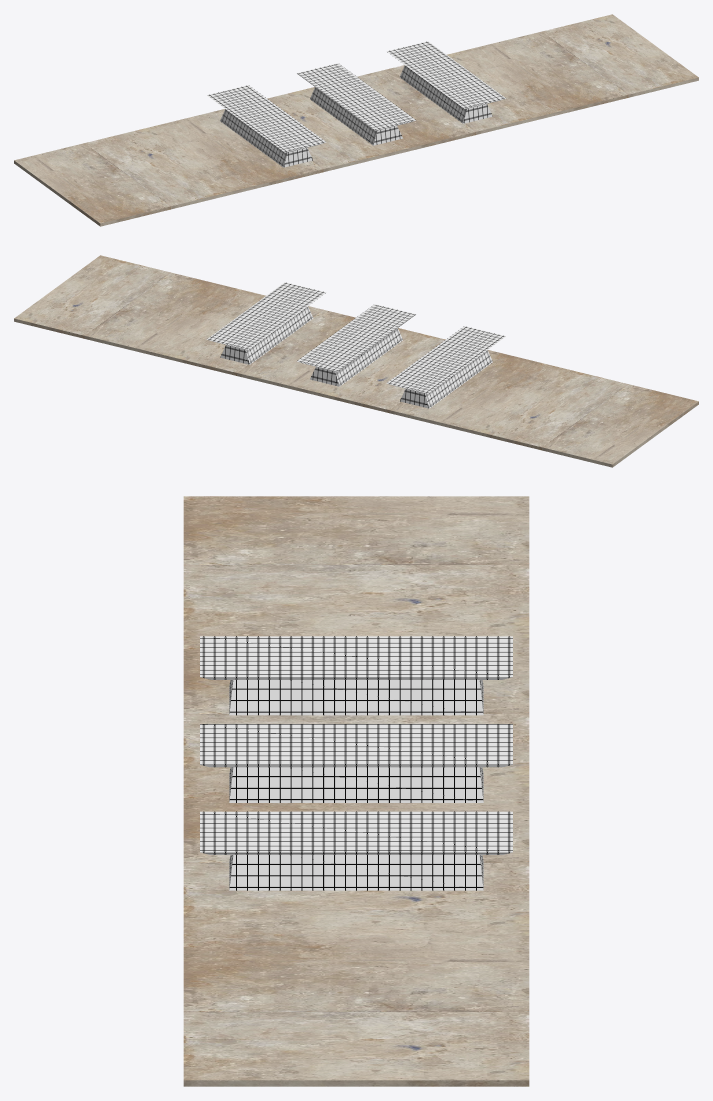
File: exhbt2-opt.glb
3 renders of one model, top to bottom at view 1: azimuth 30°, elevation 25°; view 2: azimuth 150°, elevation 25°; view 3: azimuth 270°, elevation 25°, orthographic. The views are drawn at different scales.
Parts seen in each view (by area): view 1: Mesh_8.006, Merged Objects 1; view 2: Mesh_8.006, Merged Objects 1; view 3: Mesh_8.006, Merged Objects 1.
Part boxes in pixels (<box>): Mesh_8.006: <box>14,14,698,226</box>; Merged Objects 1: <box>207,41,505,167</box>; Mesh_8.006: <box>14,255,698,467</box>; Merged Objects 1: <box>207,282,505,408</box>; Mesh_8.006: <box>183,496,529,1086</box>; Merged Objects 1: <box>200,636,512,890</box>.
Bounding box in the file's own units: 40 × 1.61 × 10.
Materials: 2 (2 with a texture image).
